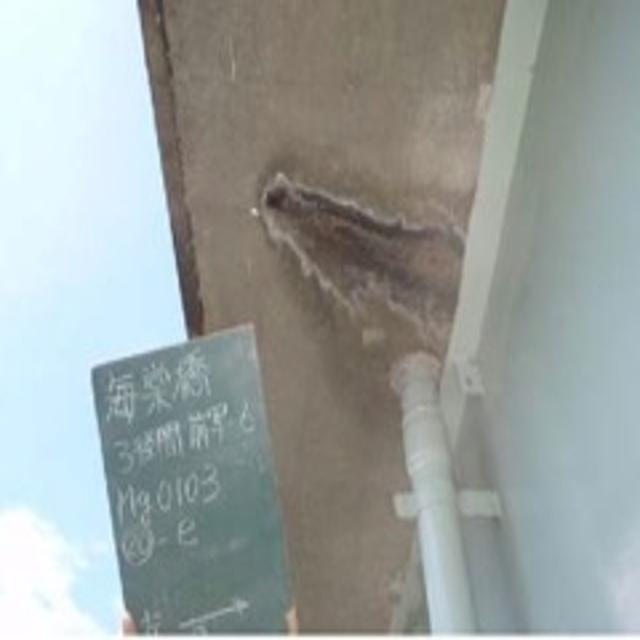leakage: (248, 157, 482, 389)
